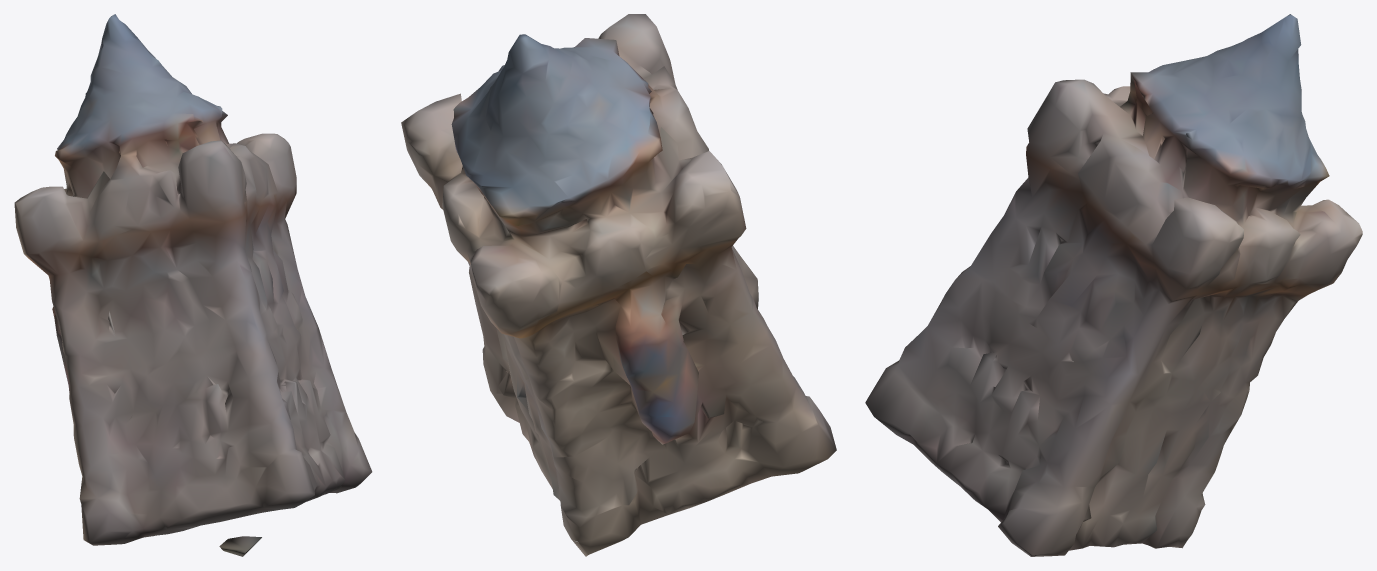
The model's file is torre_guarda.glb.
The picture shows the model from 3 angles, left to right: view 1: azimuth 30°, elevation 25°; view 2: azimuth 150°, elevation 25°; view 3: azimuth 270°, elevation 25°; orthographic projection. The views are drawn at different scales.
Size of the model in its own units: 0.5477 by 0.8686 by 0.7308.
